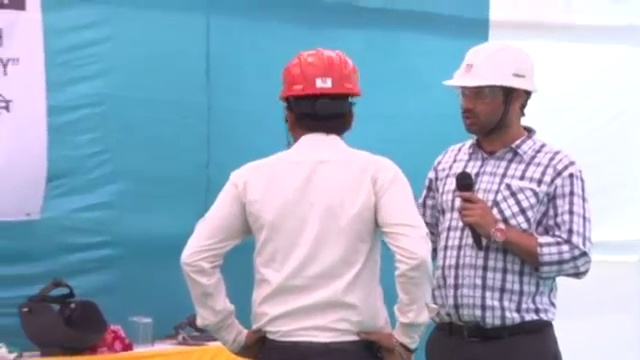helmet: (441, 39, 539, 96), (276, 46, 363, 103)
helmet_on: (441, 39, 541, 146), (277, 47, 364, 147)
person: (179, 45, 433, 360), (418, 39, 594, 360)
